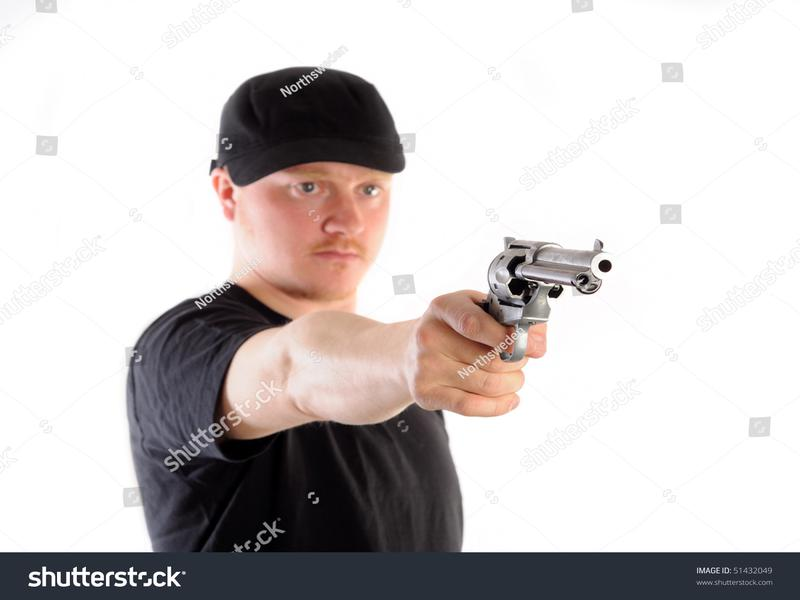Revolver: (474, 217, 632, 378)
